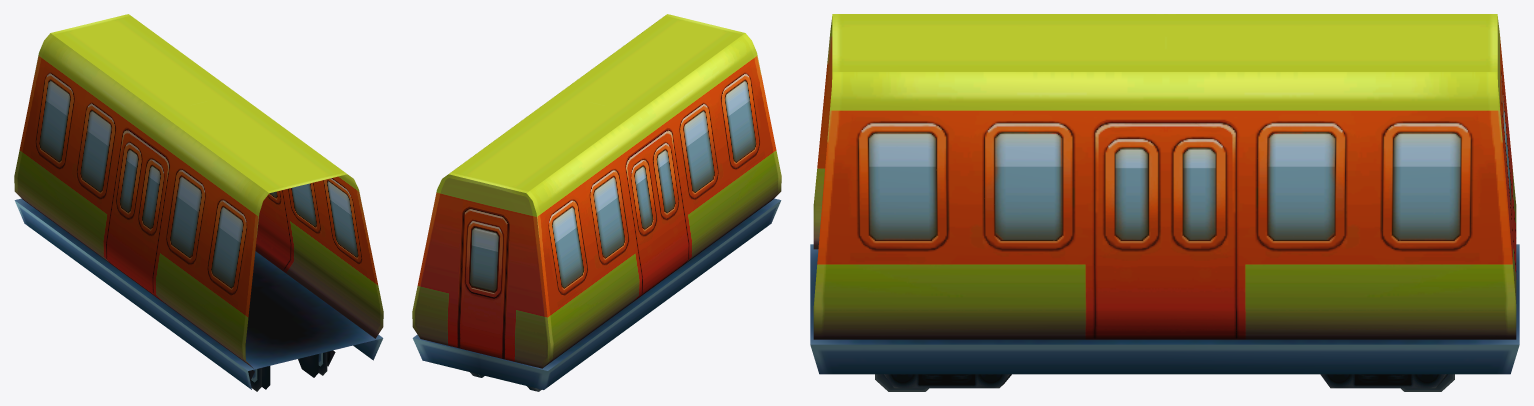
The model's file is Tren.fbx.
3 views of the same model, side by side, from view 1: azimuth 30°, elevation 25°; view 2: azimuth 150°, elevation 25°; view 3: azimuth 270°, elevation 25° (orthographic). The views are drawn at different scales.
Visible parts, largest first — view 1: default_008; view 2: default_008; view 3: default_008.
Part boxes in pixels (x1,y1,x2,y2): default_008: [14, 14, 383, 391]; default_008: [412, 14, 781, 391]; default_008: [810, 14, 1519, 391].
Size of the model in its own units: 18.82 by 27.84 by 55.13.
